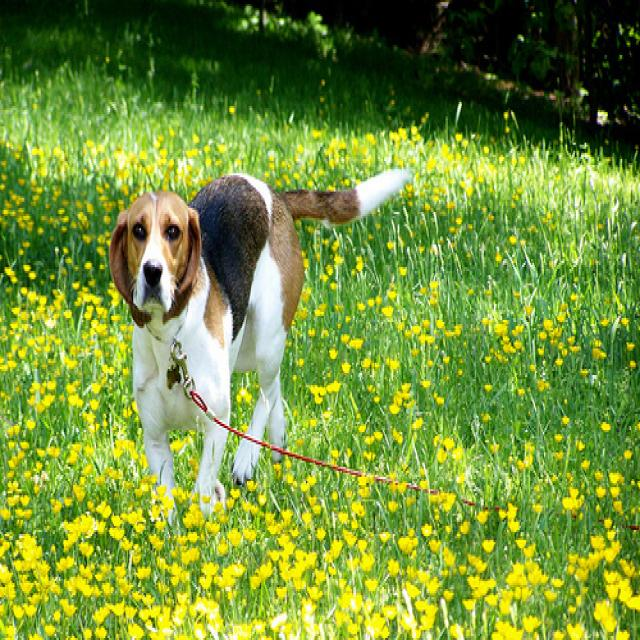dog-beagle: (100, 157, 416, 520)
